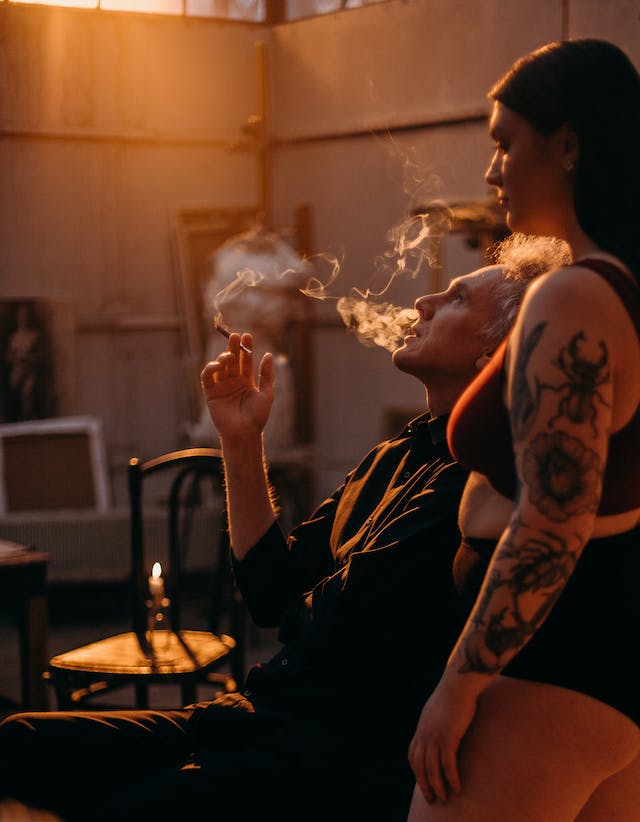Cigarette: (213, 321, 253, 356)
